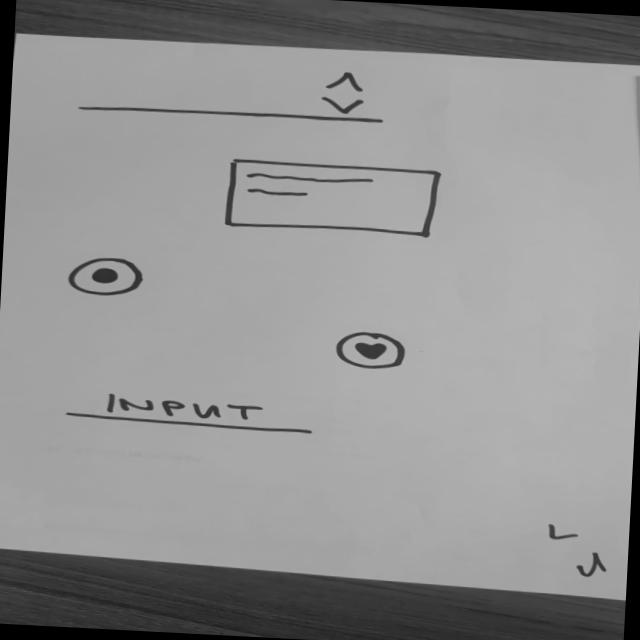icon-button: (327, 326, 414, 374)
input: (64, 386, 323, 438)
number-input: (69, 57, 395, 132)
radio: (67, 256, 154, 301)
textarea: (220, 156, 449, 243)
